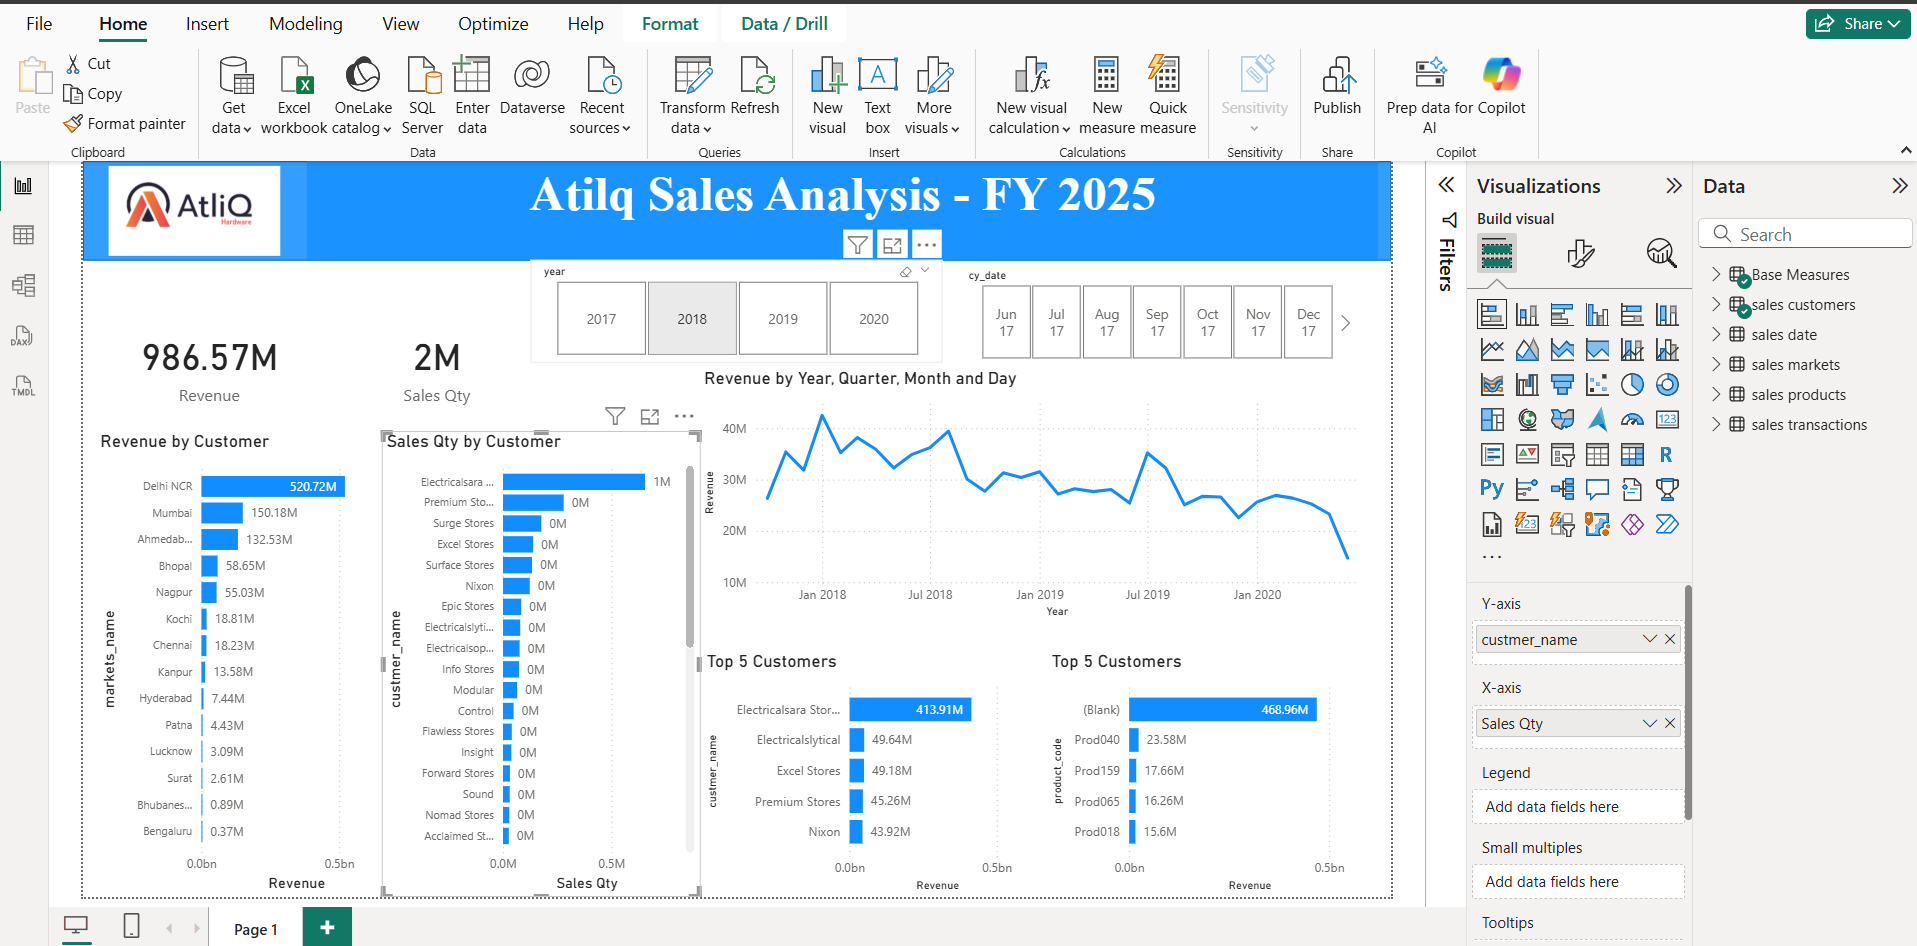

This screenshot's page, from the dashboard's own definition file:
{"tool":"powerbi","page":{"name":"Page 1","canvas":[1280,720],"ordinal":0},"visuals":[{"type":"shape","box":[0,0,1280,97.4],"z":0},{"type":"textbox","box":[218.4,0,1048.2,97.4],"z":1000},{"type":"image","box":[11.8,0,193.2,97.4],"z":2000},{"type":"card","fields":{"Values":["Base Measures.Revenue"]},"box":[11.8,112.5,223.4,174.7],"z":3000},{"type":"card","fields":{"Values":["Base Measures.Sales Qty"]},"box":[235.2,112.5,223.4,174.7],"z":4000},{"type":"barChart","title":"Revenue by Customer","fields":{"Y":["Base Measures.Revenue"],"Category":["sales markets.markets_name"]},"box":[12,264.4,310.7,455.6],"z":5000},{"type":"barChart","title":"Sales Qty by Customer","fields":{"Category":["sales customers.custmer_name"],"Y":["Base Measures.Sales Qty"]},"box":[292.8,264.4,310.7,455.6],"z":6000},{"type":"slicer","fields":{"Values":["sales date.year"]},"box":[437.7,97.1,403.3,100.1],"z":7000},{"type":"slicer","fields":{"Values":["sales date.cy_date"]},"box":[852.9,100.1,392.9,100.1],"z":8000},{"type":"barChart","title":"Top 5 Customers","fields":{"Category":["sales customers.custmer_name"],"Y":["Base Measures.Revenue"]},"box":[604.7,478.7,337.6,240.2],"z":9000},{"type":"barChart","title":"Top 5 Customers","fields":{"Y":["Base Measures.Revenue"],"Category":["sales products.product_code"]},"box":[942.4,478.7,337.6,240.2],"z":10000},{"type":"lineChart","fields":{"Y":["Base Measures.Revenue"],"Category":["sales date.cy_date.Variation.Date Hierarchy.Year","sales date.cy_date.Variation.Date Hierarchy.Quarter","sales date.cy_date.Variation.Date Hierarchy.Month","sales date.cy_date.Variation.Date Hierarchy.Day"]},"box":[603,201.6,663.5,250.3],"z":11000}]}

Visuals, with their boxes on the page's 1280x720 design canvas (x1, y1, x2, y2). These are canvas units, not pixel positions in the 1917x946 screenshot, which may show the page scaled, cropped or inside an application window:
shape: x1=0, y1=0, x2=1280, y2=97
textbox: x1=218, y1=0, x2=1267, y2=97
image: x1=12, y1=0, x2=205, y2=97
card - Base Measures.Revenue: x1=12, y1=112, x2=235, y2=287
card - Base Measures.Sales Qty: x1=235, y1=112, x2=459, y2=287
"Revenue by Customer" barChart: x1=12, y1=264, x2=323, y2=720
"Sales Qty by Customer" barChart: x1=293, y1=264, x2=604, y2=720
slicer - sales date.year: x1=438, y1=97, x2=841, y2=197
slicer - sales date.cy_date: x1=853, y1=100, x2=1246, y2=200
"Top 5 Customers" barChart: x1=605, y1=479, x2=942, y2=719
"Top 5 Customers" barChart: x1=942, y1=479, x2=1280, y2=719
lineChart - Base Measures.Revenue x sales date.cy_date.Variation.Date Hierarchy.Year: x1=603, y1=202, x2=1266, y2=452
